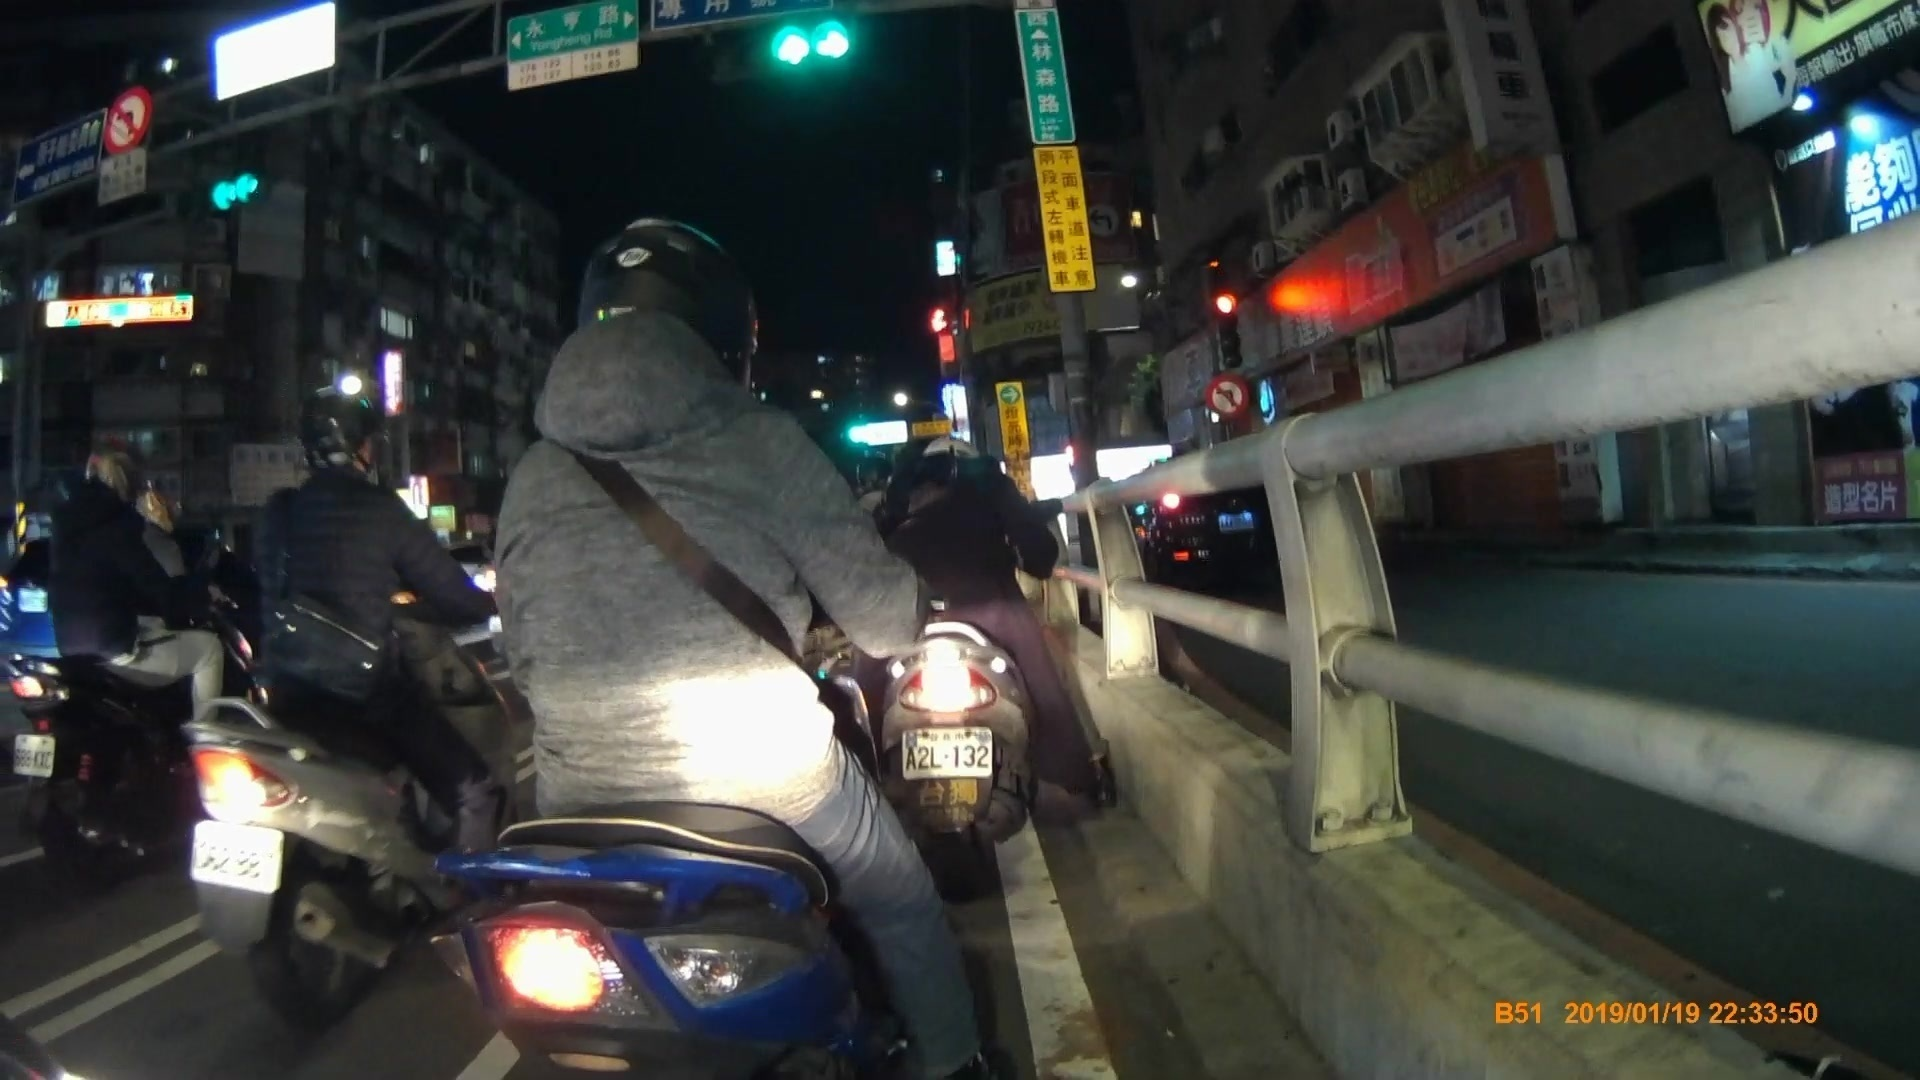License_plate: (191, 815, 287, 896), (900, 727, 996, 775), (9, 728, 61, 776)
